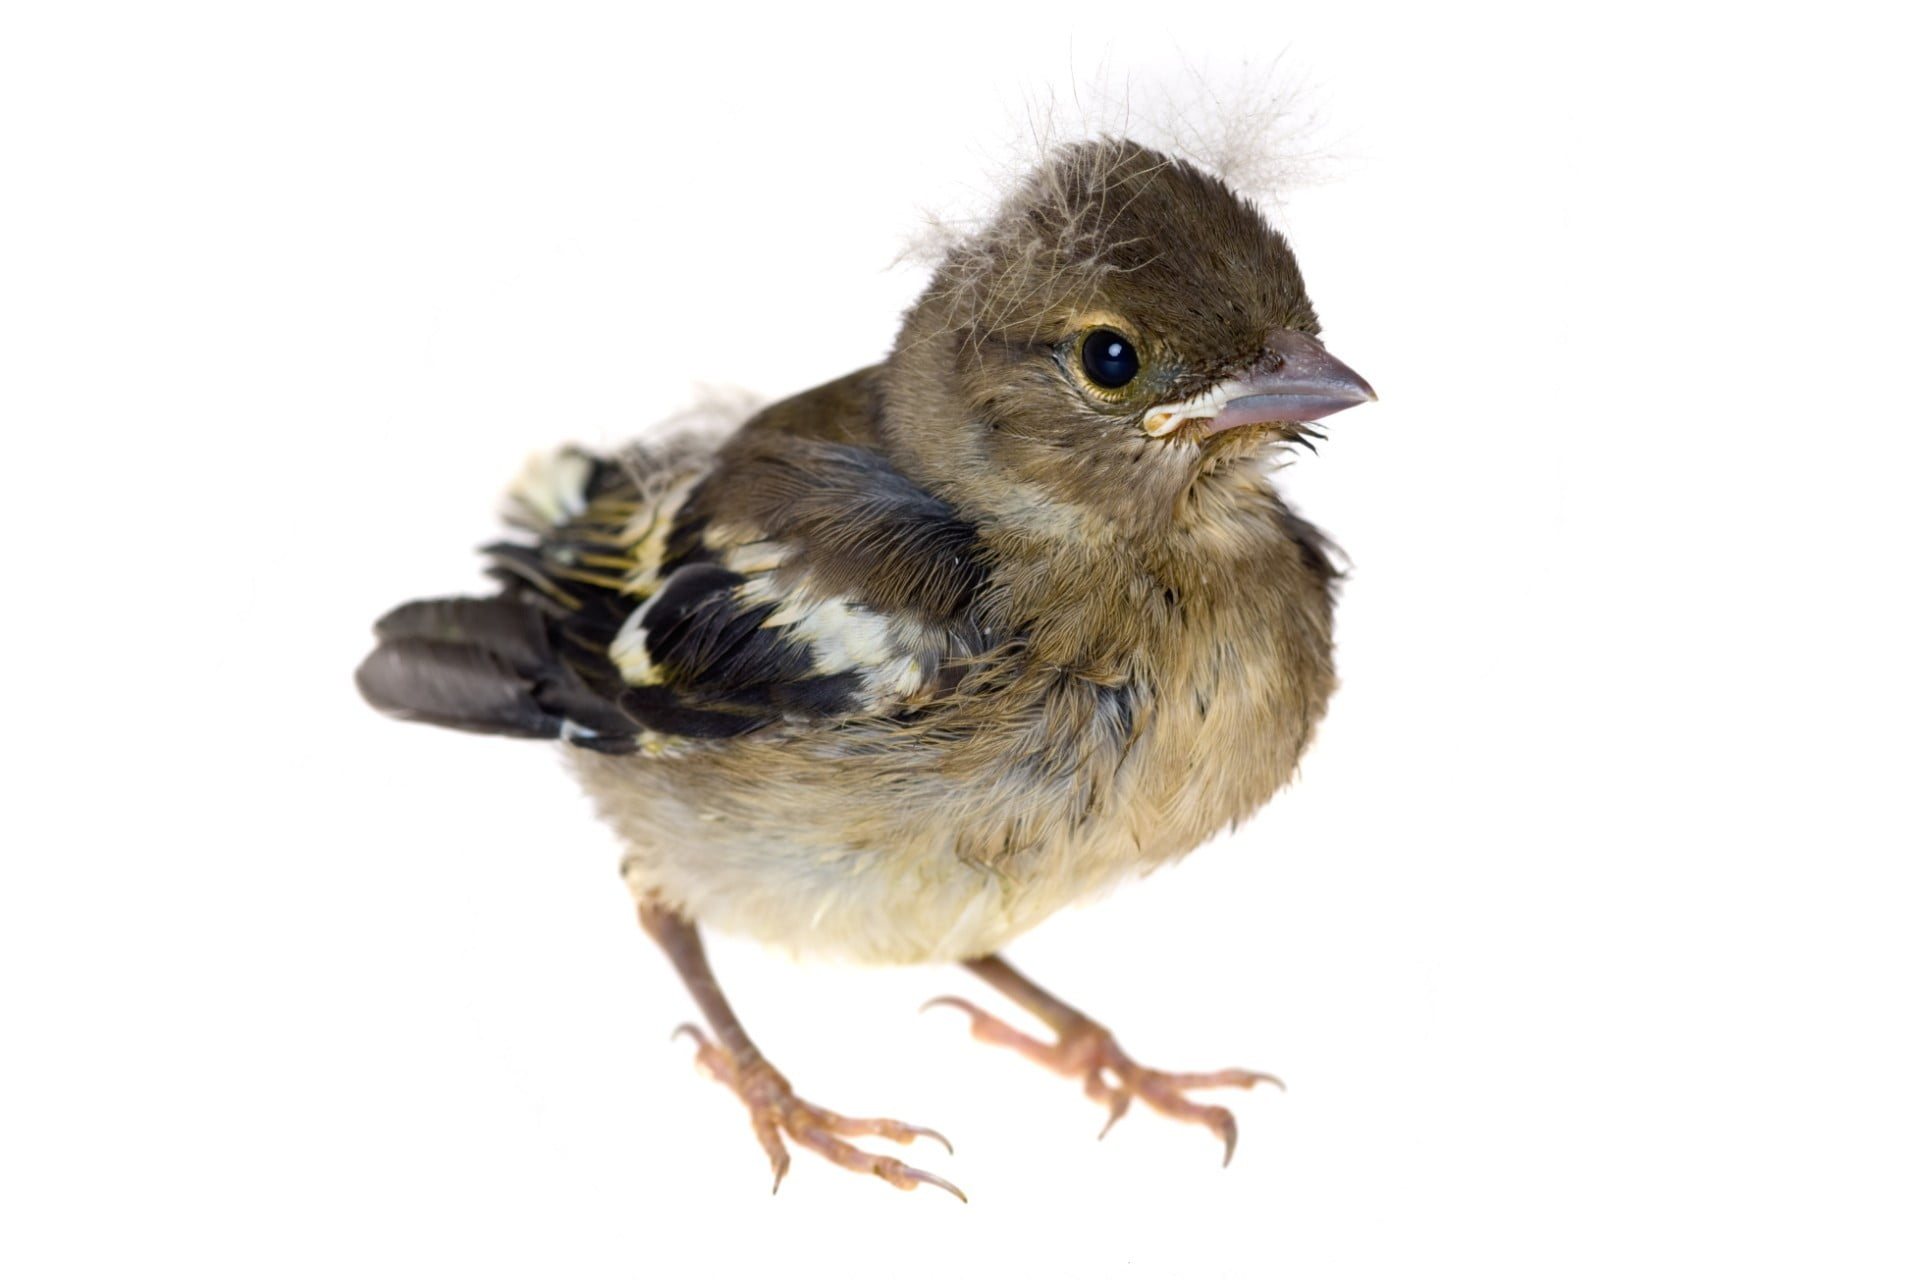bird: (289, 56, 1411, 1219)
